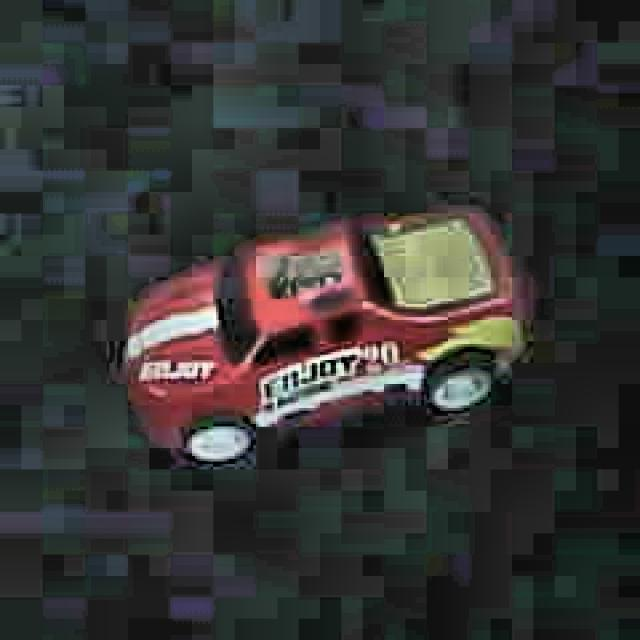car: (113, 199, 530, 484)
